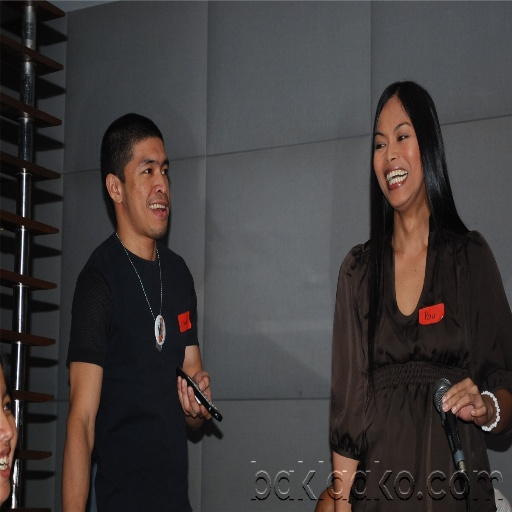hand: (440, 376, 491, 428), (175, 376, 210, 424)
